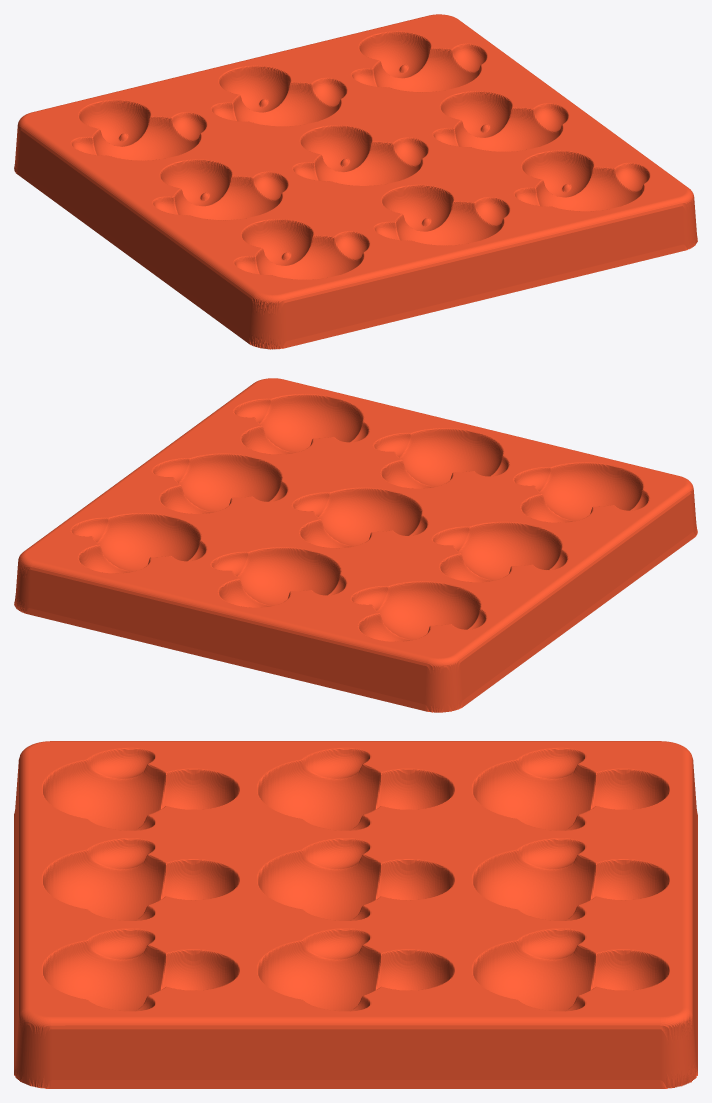
File: mold.glb
3 views of the same model, one above another, from view 1: azimuth 30°, elevation 25°; view 2: azimuth 150°, elevation 25°; view 3: azimuth 270°, elevation 25° (orthographic). The views are drawn at different scales.
Parts seen in each view (by area): view 1: geometry_0; view 2: geometry_0; view 3: geometry_0.
Part boxes in pixels (left/top/right/bottom): geometry_0: left=14, top=14, right=697, bottom=349; geometry_0: left=14, top=378, right=697, bottom=712; geometry_0: left=14, top=741, right=697, bottom=1088.
Size of the model in its own units: 0.1638 by 0.0174 by 0.1647.
